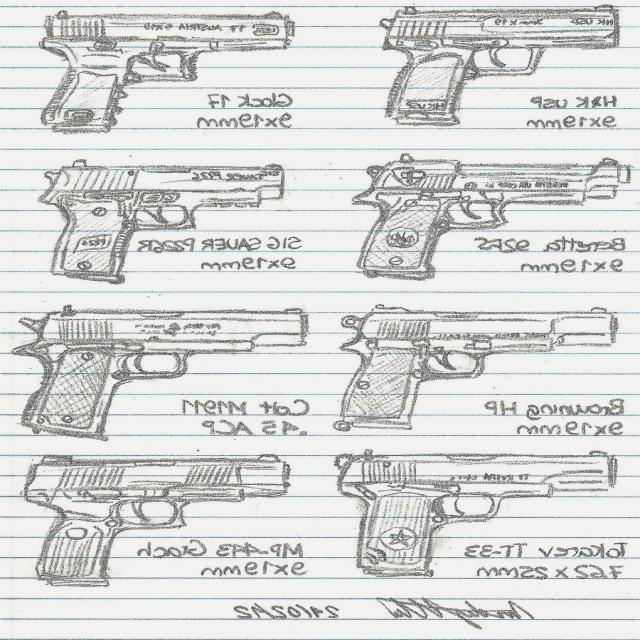pistol: (343, 444, 623, 592), (17, 303, 308, 439), (334, 303, 634, 430), (26, 451, 290, 594), (351, 155, 636, 283), (36, 9, 298, 132), (41, 158, 291, 285), (379, 1, 623, 122)
